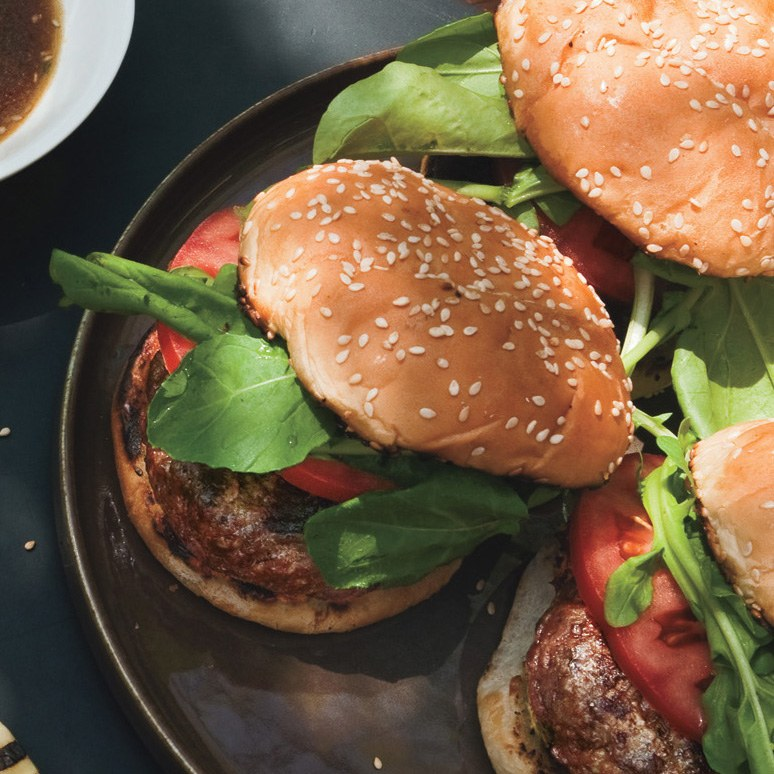hamburger_buns: (211, 140, 654, 486), (484, 9, 774, 292)
